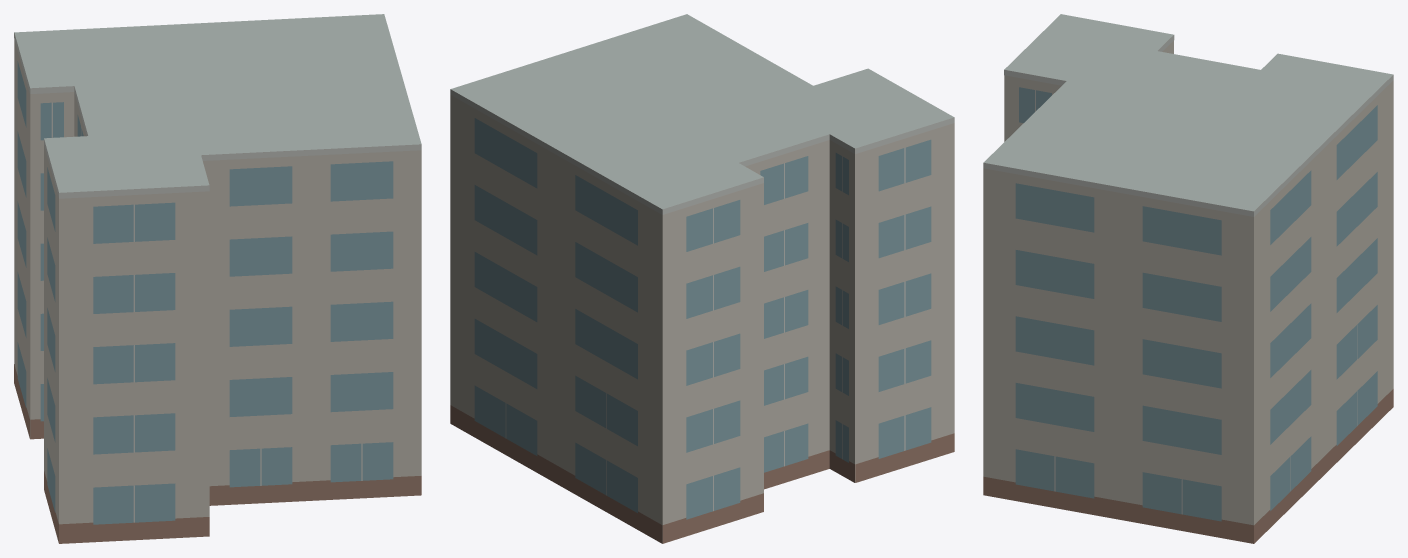
File: survey-upis-32534556.glb
3 views of the same model, side by side, from view 1: azimuth 30°, elevation 25°; view 2: azimuth 150°, elevation 25°; view 3: azimuth 270°, elevation 25° (orthographic). The views are drawn at different scales.
Visible parts, largest first — view 1: survey-upis-32534556.tmp; view 2: survey-upis-32534556.tmp; view 3: survey-upis-32534556.tmp.
Part boxes in pixels (x1,y1,x2,y2): survey-upis-32534556.tmp: (14, 14, 421, 543); survey-upis-32534556.tmp: (450, 14, 954, 543); survey-upis-32534556.tmp: (983, 14, 1393, 543).
Size of the model in its own units: 18.47 by 14.5 by 16.22.
